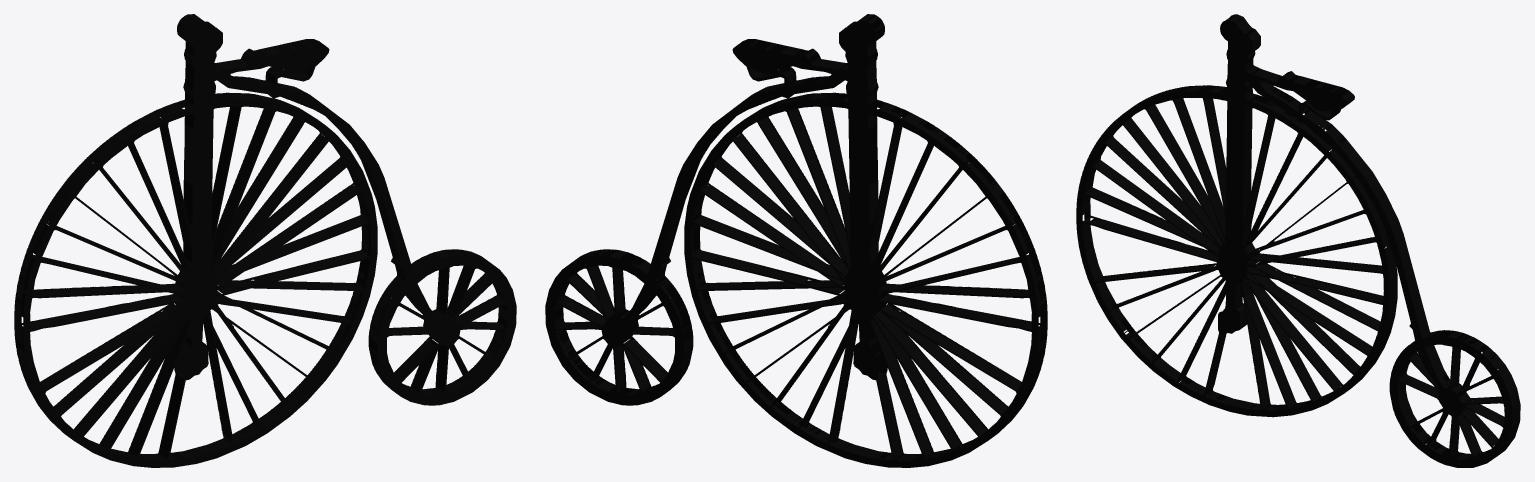
File: Bike_old.obj
3 renders of one model, left to right at view 1: azimuth 30°, elevation 25°; view 2: azimuth 150°, elevation 25°; view 3: azimuth 330°, elevation 25°, orthographic. The views are drawn at different scales.
Visible parts, largest first — view 1: Object.1; view 2: Object.1; view 3: Object.1.
Part boxes in pixels (bbox=[...]): Object.1: bbox=[14, 14, 516, 467]; Object.1: bbox=[545, 14, 1047, 467]; Object.1: bbox=[1076, 14, 1520, 467].
Bounding box in the file's own units: 198 × 170 × 6.21.
Materials: 1 (1 with a texture image).
